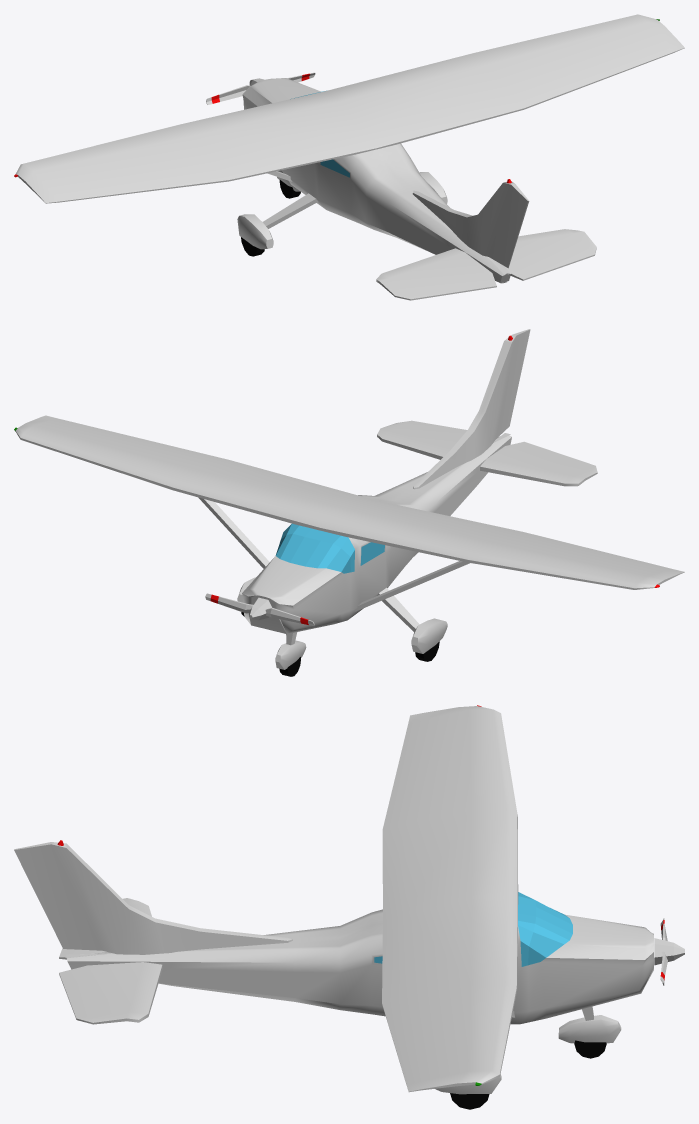
3 views of the same model, one above another, from view 1: azimuth 30°, elevation 25°; view 2: azimuth 150°, elevation 25°; view 3: azimuth 270°, elevation 25° (orthographic). The views are drawn at different scales.
Visible parts, largest first — view 1: Plane_0, Plane-Propeller_1; view 2: Plane_0, Plane-Propeller_1; view 3: Plane_0, Plane-Propeller_1.
Boxes of the visible parts, <box> form: Plane_0: <box>14,14,684,300</box>; Plane-Propeller_1: <box>206,72,315,104</box>; Plane_0: <box>14,329,684,676</box>; Plane-Propeller_1: <box>205,593,314,626</box>; Plane_0: <box>14,705,653,1109</box>; Plane-Propeller_1: <box>654,918,684,985</box>.
Bounding box in the file's own units: 10.2 × 2.7 × 7.63.
